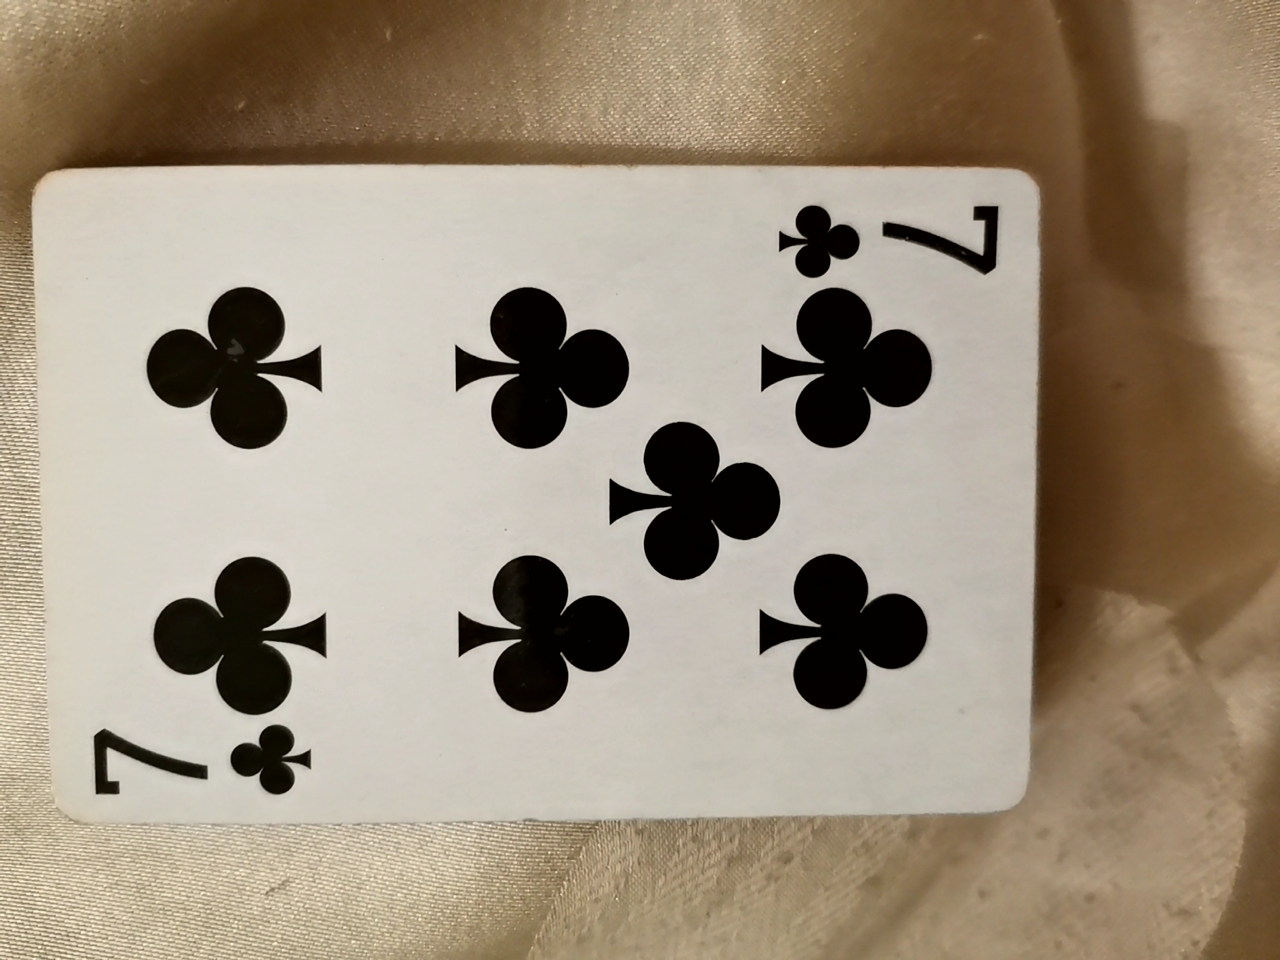mh 7: (12, 159, 1058, 840)
